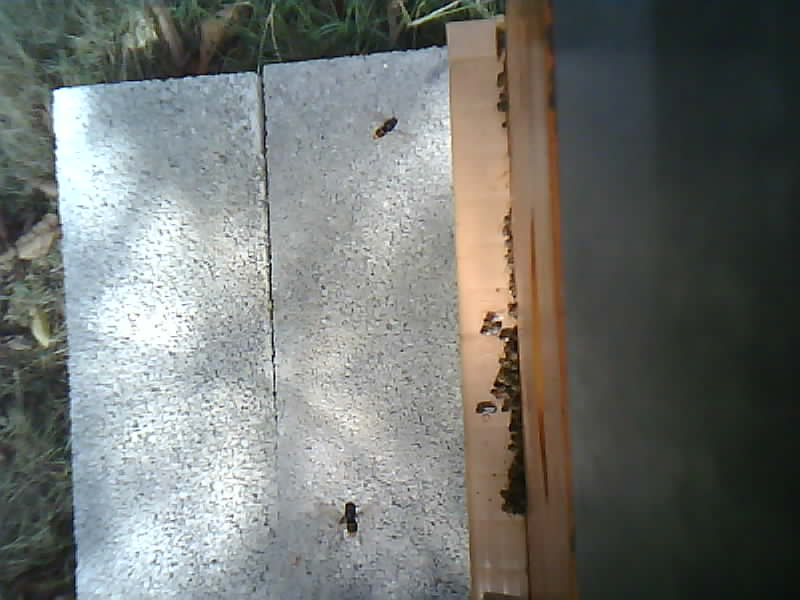bee: (492, 401, 535, 518), (483, 343, 516, 396), (479, 309, 510, 343)
hornet: (365, 112, 406, 145), (338, 496, 362, 544)
